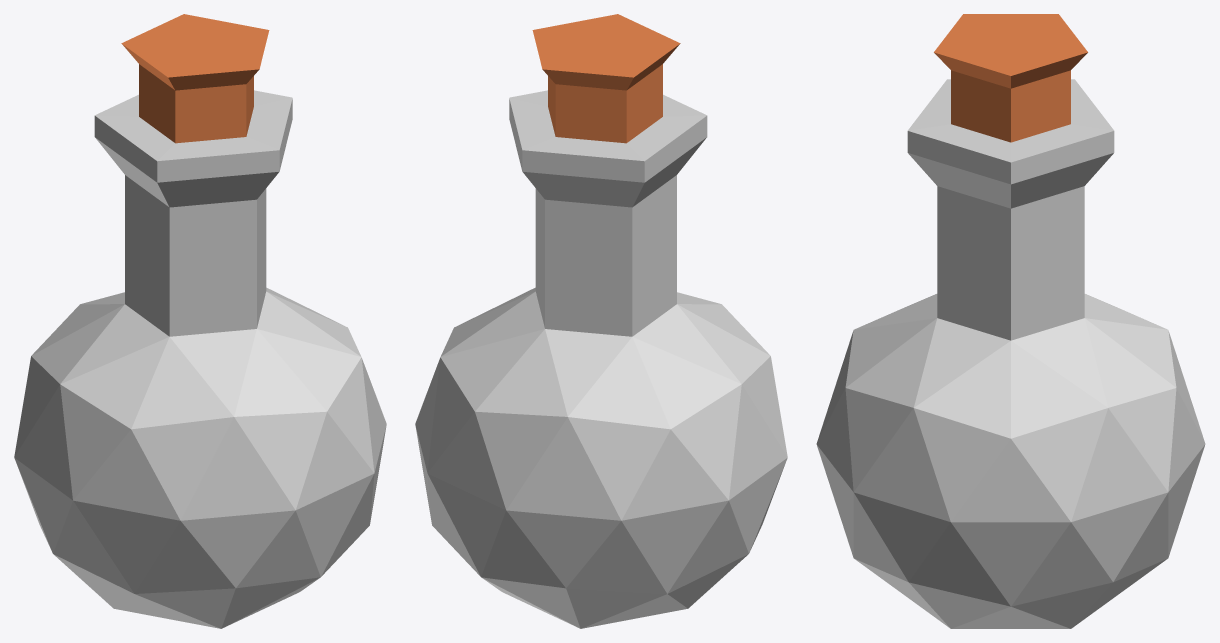
File: purple potion.fbx
3 views of the same model, side by side, from view 1: azimuth 30°, elevation 25°; view 2: azimuth 150°, elevation 25°; view 3: azimuth 270°, elevation 25° (orthographic). The views are drawn at different scales.
Parts seen in each view (by area): view 1: potionbottle, potionbottle.002; view 2: potionbottle, potionbottle.002; view 3: potionbottle, potionbottle.002.
Boxes of the visible parts, bbox=[...] form: potionbottle: bbox=[14, 90, 386, 628]; potionbottle.002: bbox=[121, 14, 269, 143]; potionbottle: bbox=[415, 90, 787, 628]; potionbottle.002: bbox=[532, 14, 680, 143]; potionbottle: bbox=[816, 79, 1205, 628]; potionbottle.002: bbox=[934, 14, 1087, 142].
Bounding box in the file's own units: 190 × 328 × 200.
